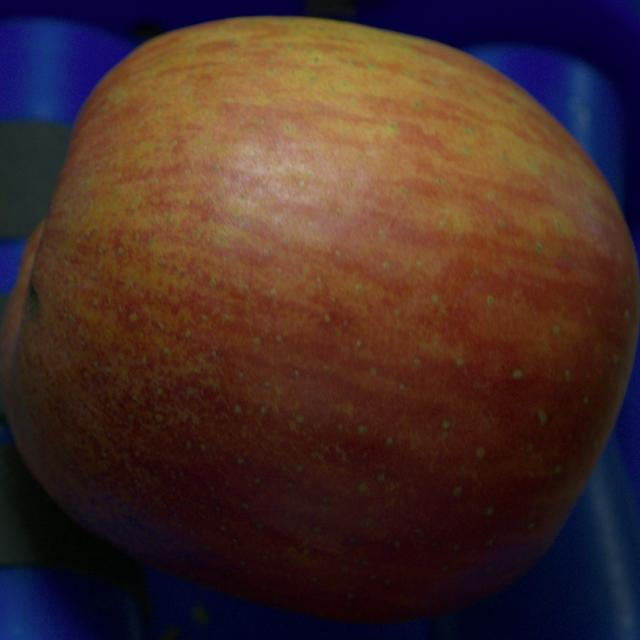apple: (2, 18, 639, 623)
pest: (27, 284, 38, 319)
